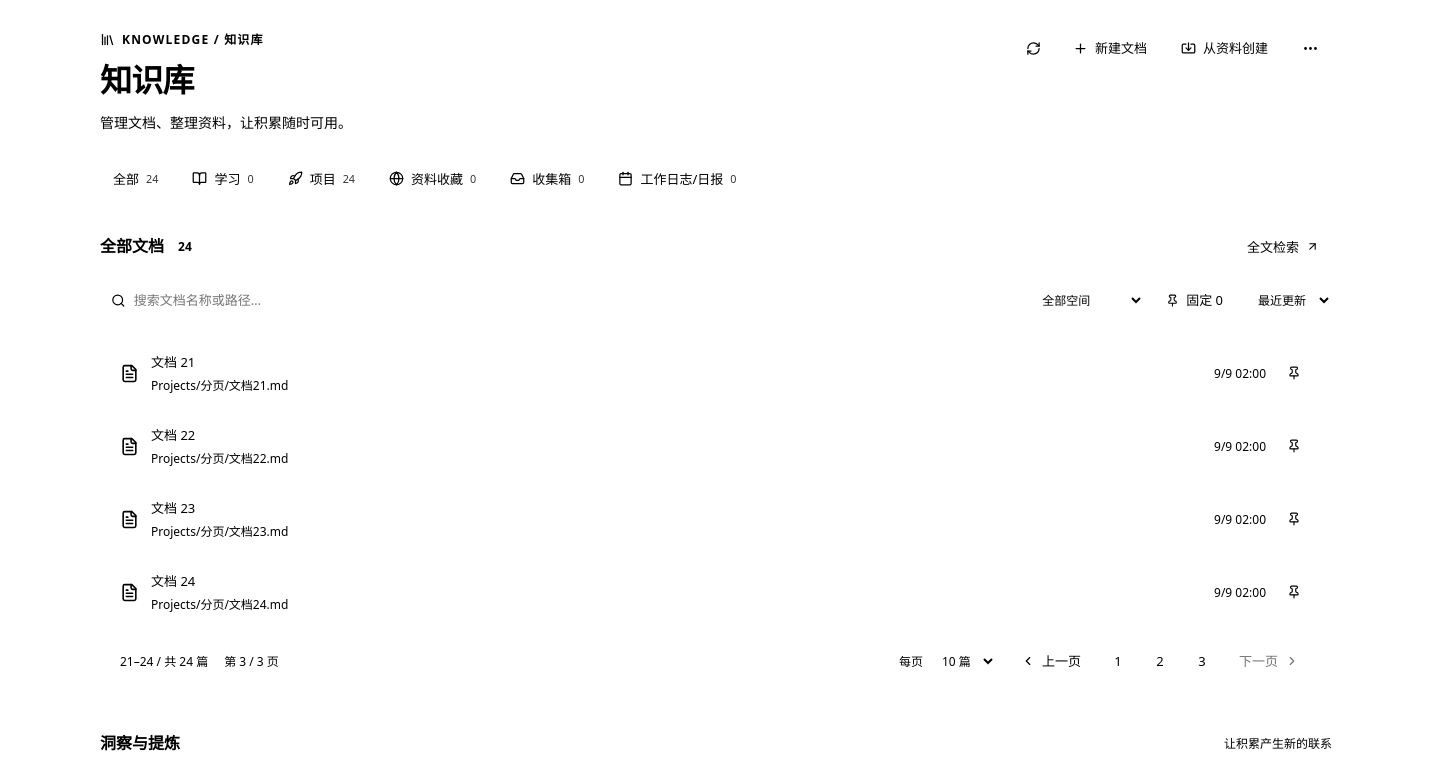
Test: KnowledgeVaultView pagination › resets to page one after changing the sort filter
Select "文档名称" in the dropdown named "文档排序" at (1288, 300), box [1245,282,1332,319]
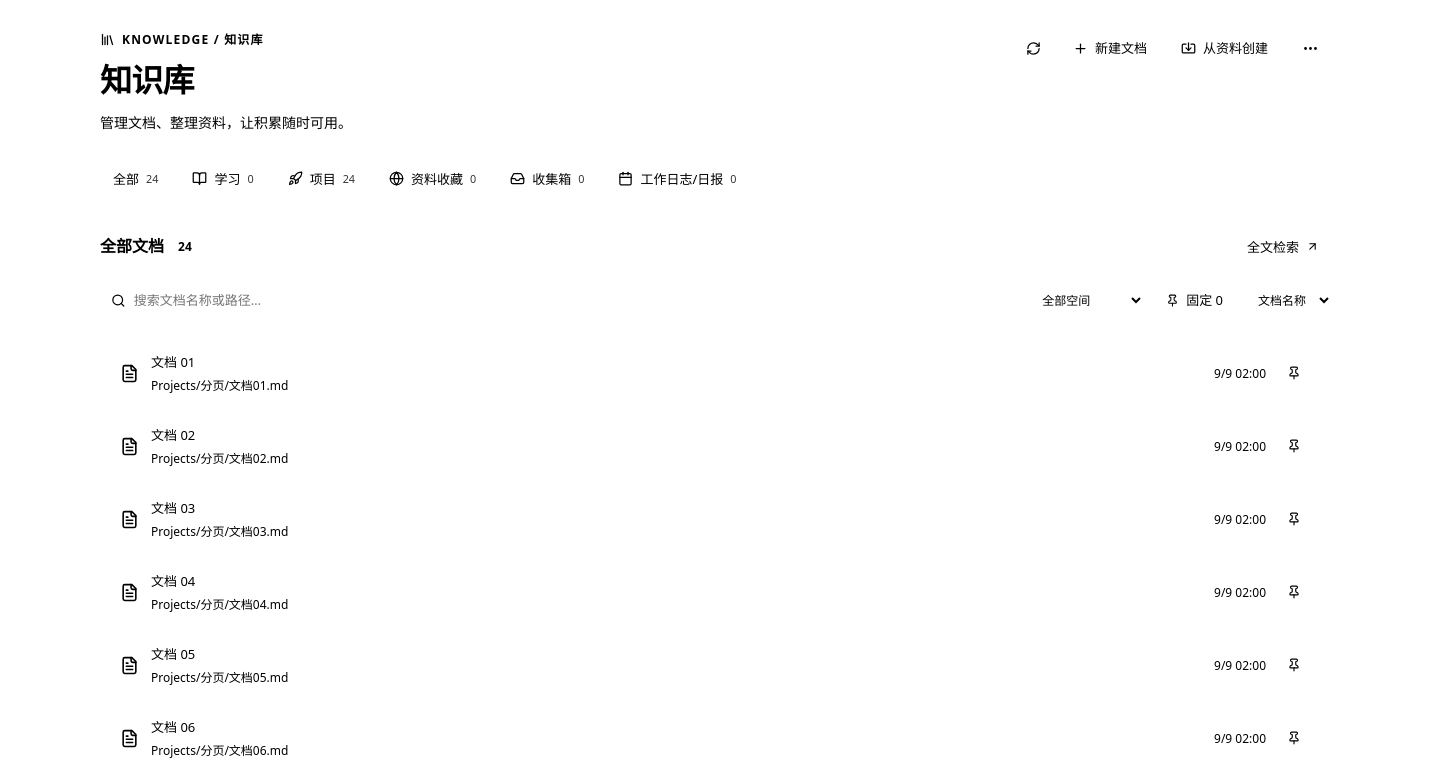
Expected: the element with test id "vault-document" shows "文档 01", [120,349,1204,398]
